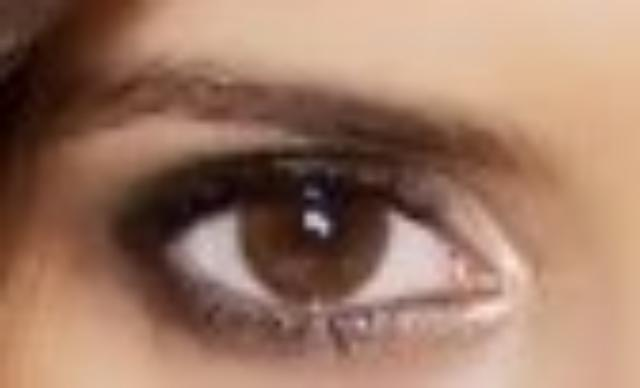eye: (248, 170, 404, 312)
